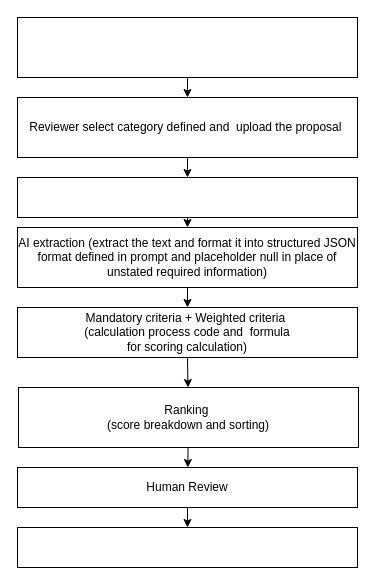
Some shapes in this 376 by 585 pixel diagram are drawn without their labels. The shapes that lost their labels are listed below. From the top down, each one's centre as x and y in pixels, then its label:
At point (187, 47): "Admin defines category + creteria (stored in DB with version)".
At point (187, 197): "Text Extraction Process (PDF Parser / OCR)".
At point (187, 547): "final award decision.".
